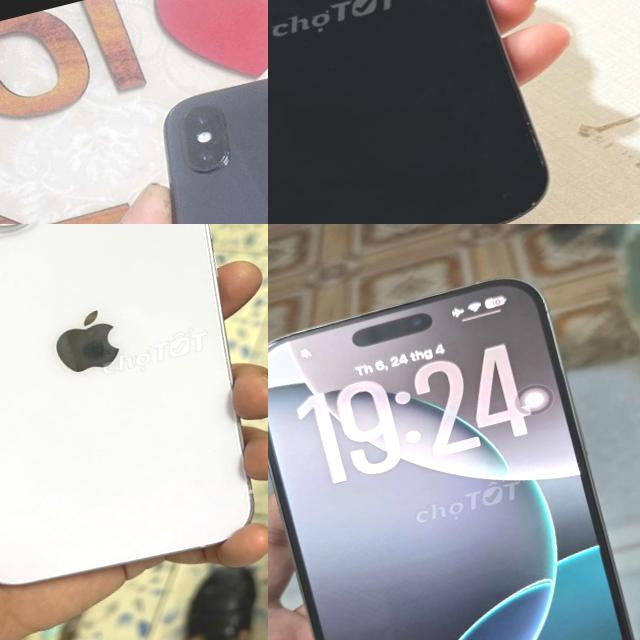gen_12_13: (268, 0, 572, 224)
gen_14: (0, 224, 268, 598)
gen_16: (268, 279, 631, 640)
gen_x_xs: (105, 33, 268, 224)
